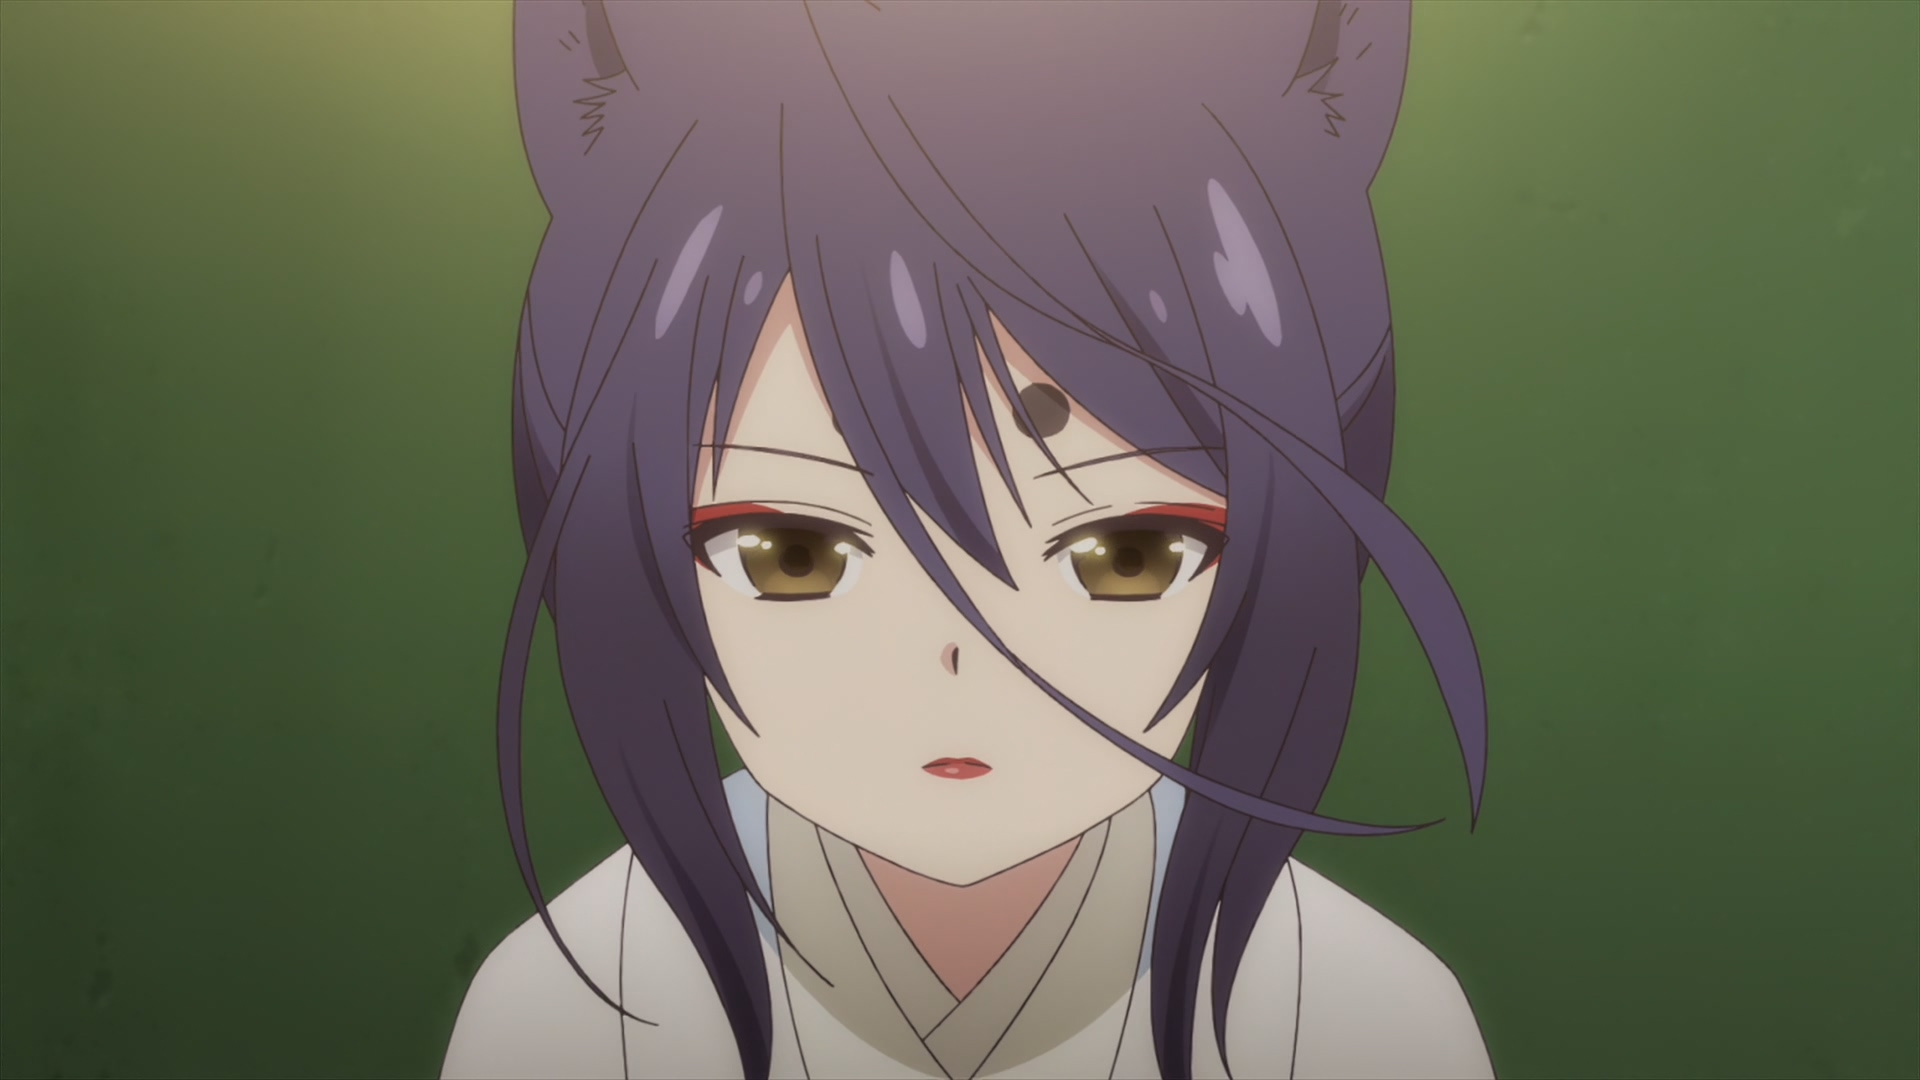皋: (438, 1, 1491, 1080)
